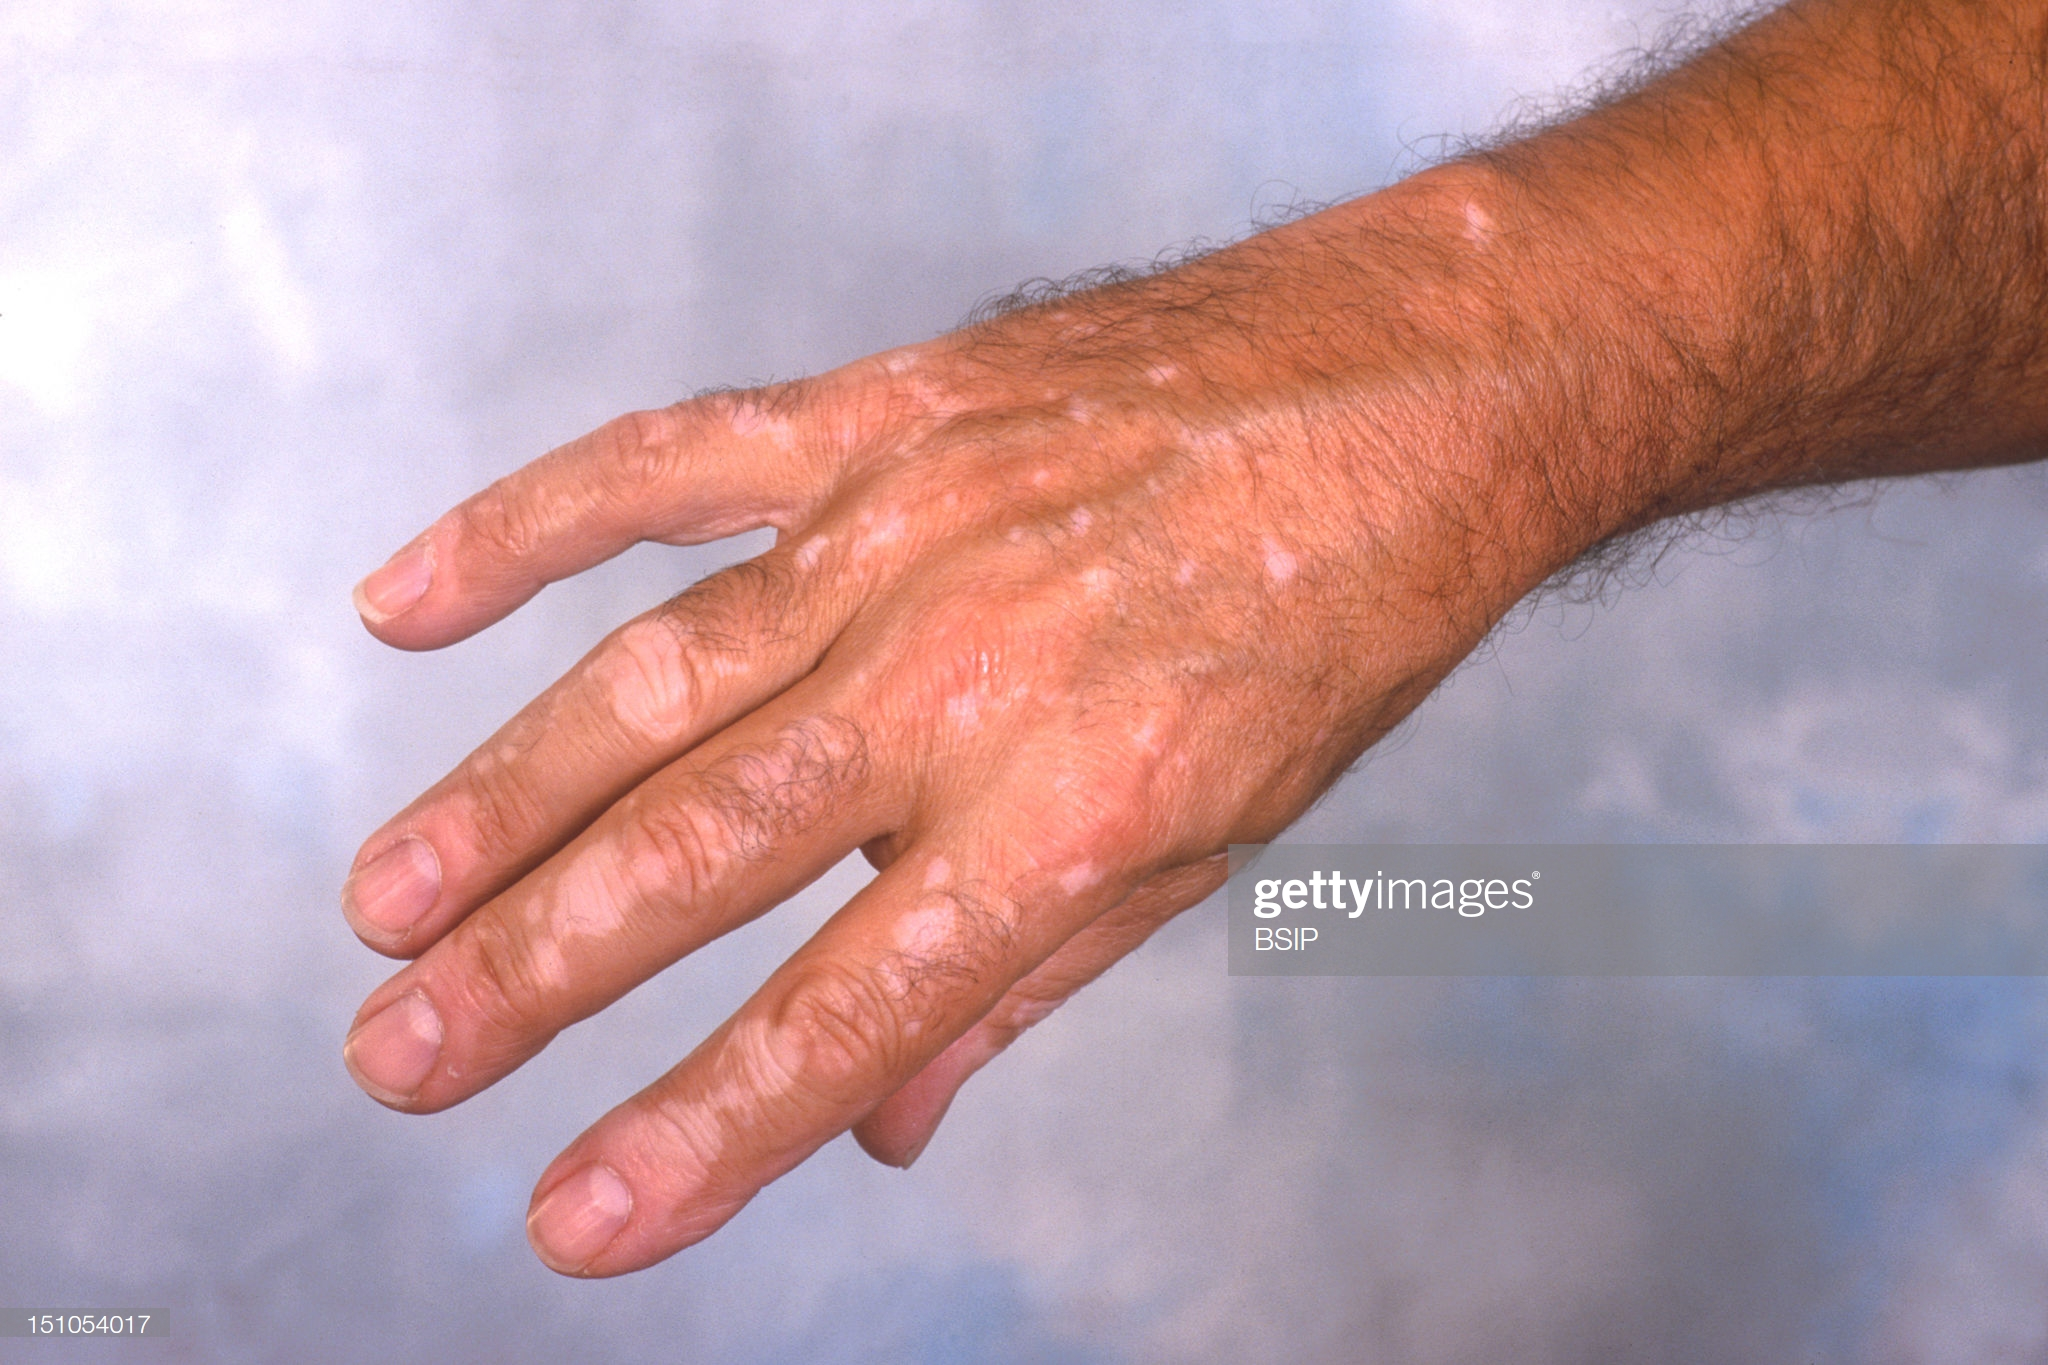vitiligo: (397, 500, 1038, 1124)
